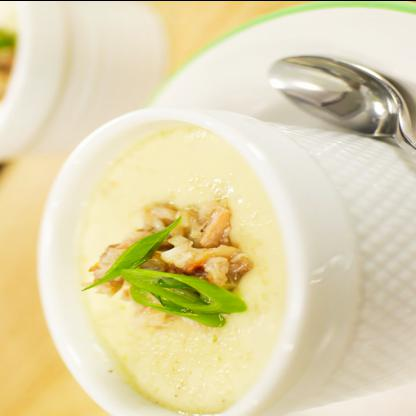Joke: (63, 115, 340, 415)
